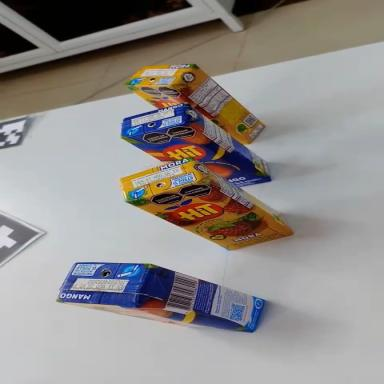HIT-MANGO: (116, 81, 284, 212), (56, 256, 267, 334)
HIT-MORA: (113, 133, 298, 285), (125, 38, 273, 163)
cara_F: (126, 153, 294, 284), (122, 97, 270, 222), (126, 65, 249, 165), (58, 292, 255, 342)
